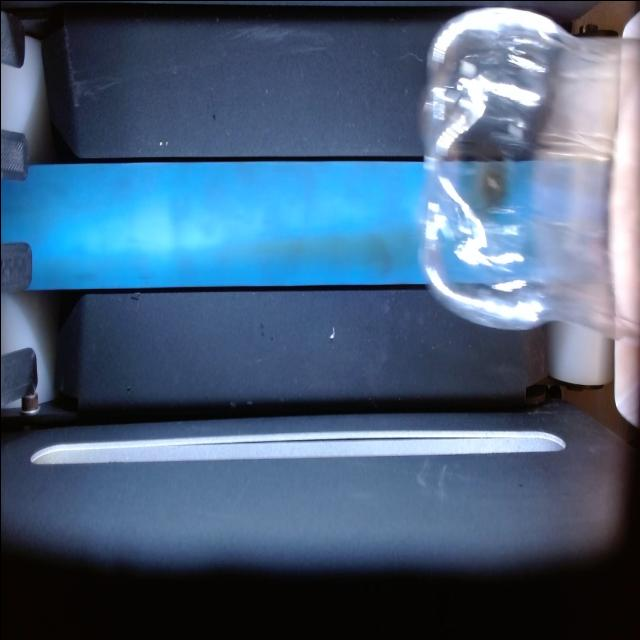bottle: (422, 7, 640, 342)
